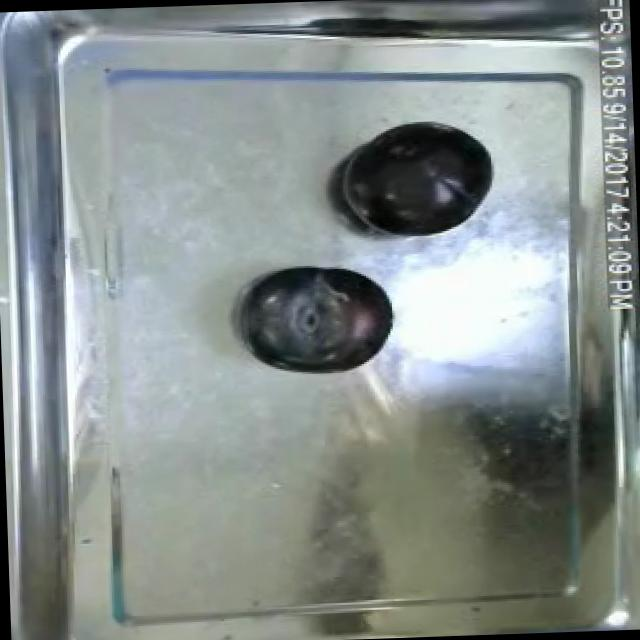Fruit: (335, 114, 503, 242), (236, 257, 404, 379)
